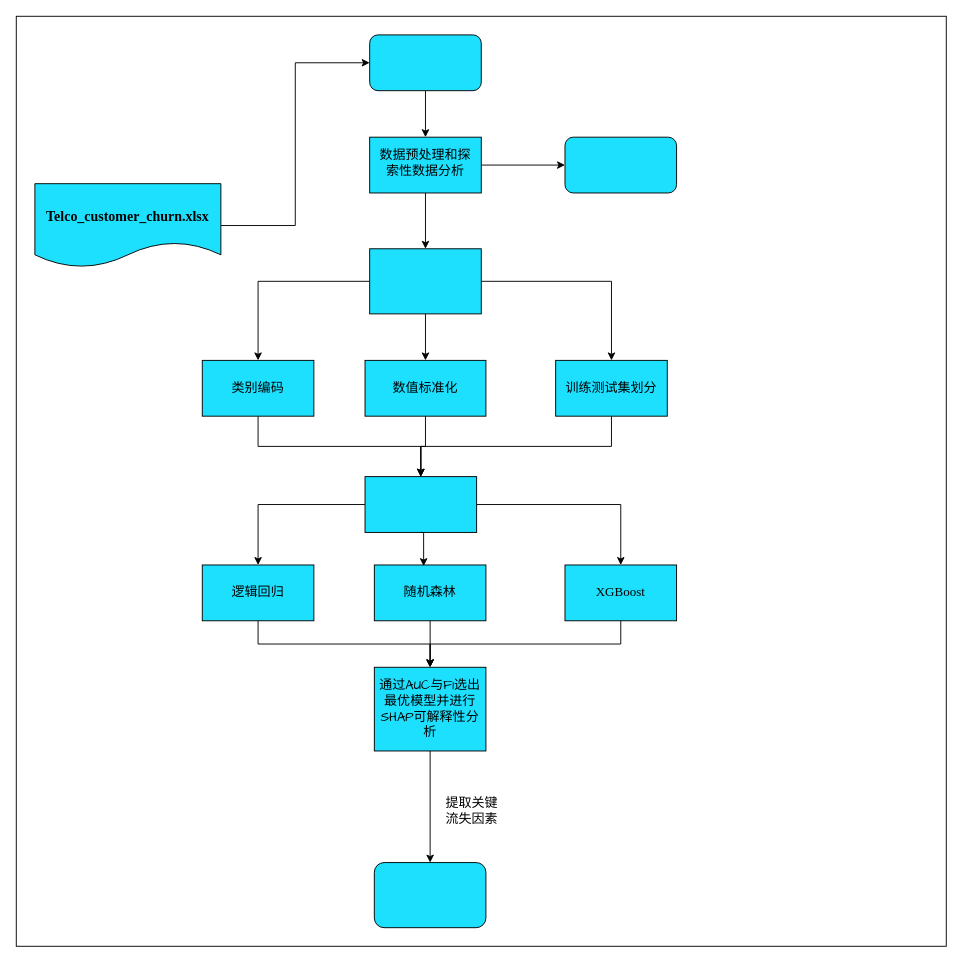
The diagram is 963 pixels wide and 963 high, and some of its shapes have lost their labels. Each missing label, with the centre of its shape:
"初步得到流失客户的关键特征" belongs at pixel 620 164.
"对客户分层，制定挽留策略，估算产出比" belongs at pixel 429 895.
"数据准备" belongs at pixel 425 281.
"模型建立与训练" belongs at pixel 420 504.
"读取客户历史数据文件" belongs at pixel 425 62.
